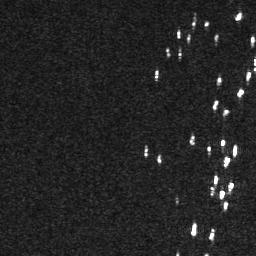ship: (188, 222, 199, 236), (244, 70, 254, 81), (212, 173, 220, 186), (211, 98, 219, 111), (227, 180, 235, 193), (236, 87, 245, 98), (209, 228, 216, 242), (235, 11, 243, 23), (154, 68, 160, 83), (188, 135, 197, 145), (222, 157, 231, 167), (249, 35, 256, 47), (232, 144, 238, 157), (143, 144, 149, 157), (156, 153, 163, 164), (216, 76, 223, 87), (219, 189, 226, 199), (176, 28, 182, 39), (223, 108, 230, 117), (223, 201, 229, 211), (220, 139, 227, 147), (204, 20, 209, 28)
